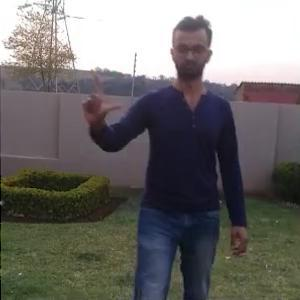land_hand: (77, 64, 124, 131)
